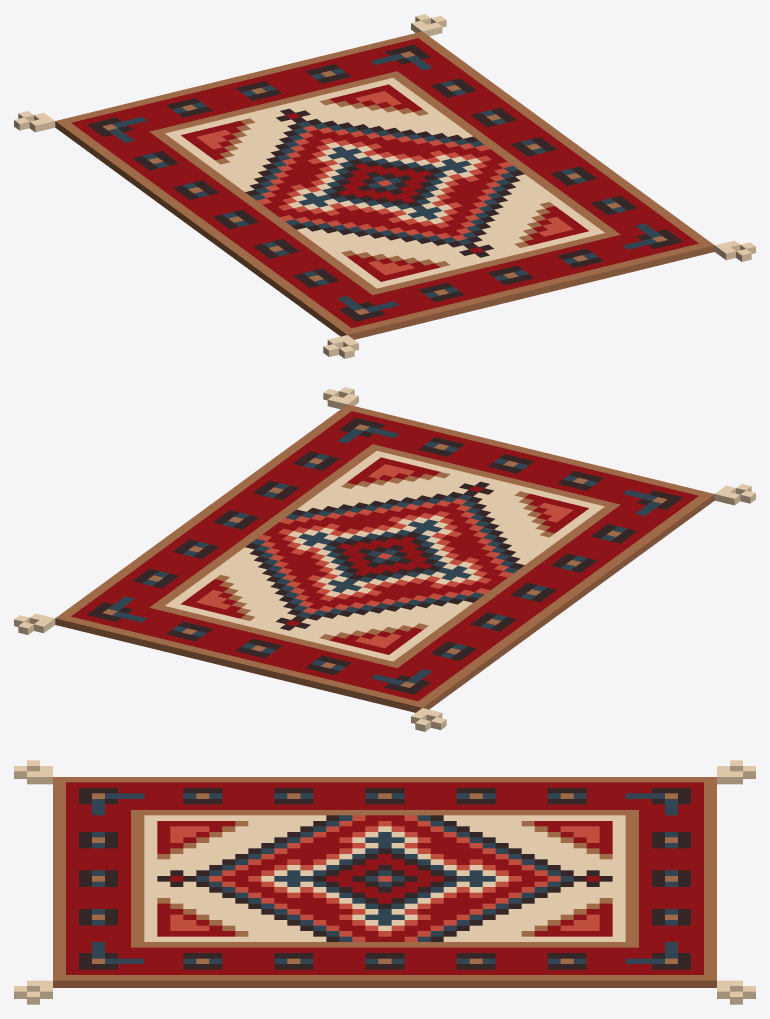
File: PixelRug_The-Classic_First-Edition_2021.glb
The picture shows the model from 3 angles, top to bottom: view 1: azimuth 30°, elevation 25°; view 2: azimuth 150°, elevation 25°; view 3: azimuth 270°, elevation 25°; orthographic projection. The views are drawn at different scales.
Visible parts, largest first — view 1: Curve.1902; view 2: Curve.1902; view 3: Curve.1902.
Boxes of the visible parts, <box> form: Curve.1902: <box>14,14,755,358</box>; Curve.1902: <box>14,387,755,731</box>; Curve.1902: <box>14,760,755,1004</box>.
Size of the model in its own units: 0.8326 by 0.0123 by 1.1.
